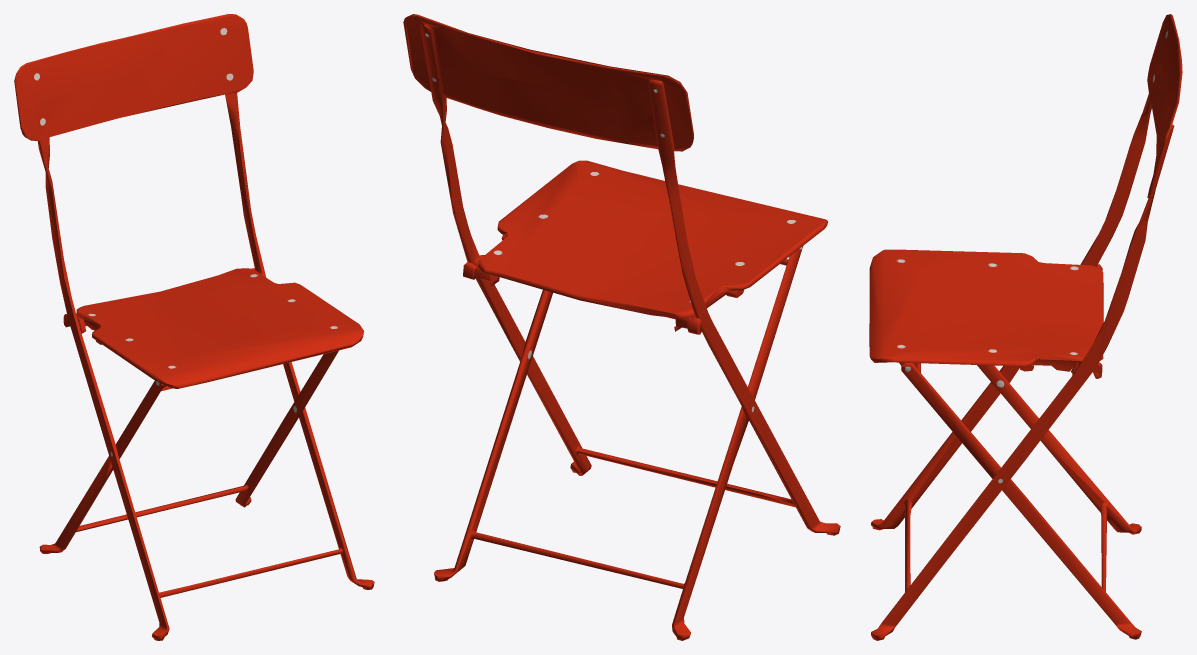
The model's file is 22 - SUNDSÖ - 折疊椅, 亮紅色 戶外用 IKEA 線上購物.glb.
3 renders of one model, left to right at view 1: azimuth 30°, elevation 25°; view 2: azimuth 150°, elevation 25°; view 3: azimuth 270°, elevation 25°, orthographic. The views are drawn at different scales.
Parts seen in each view (by area): view 1: ASY_ART_70575891_S01_NV01; view 2: ASY_ART_70575891_S01_NV01; view 3: ASY_ART_70575891_S01_NV01.
Boxes of the visible parts, x1,y1,x2,y2 form: ASY_ART_70575891_S01_NV01: (14,14,374,640); ASY_ART_70575891_S01_NV01: (403,14,840,640); ASY_ART_70575891_S01_NV01: (869,14,1182,640).
Size of the model in its own units: 0.4288 by 0.8375 by 0.4607.
1 material, 1 textured.
